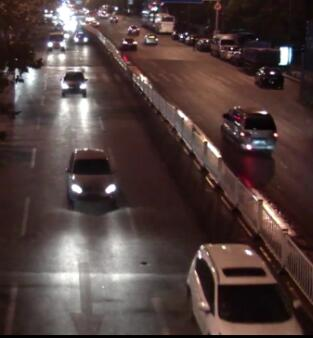bus: (149, 12, 177, 34)
car: (184, 240, 304, 334), (64, 143, 121, 211), (220, 101, 279, 155), (57, 69, 91, 98), (254, 62, 285, 86), (46, 29, 67, 52), (211, 33, 232, 56), (140, 31, 162, 47), (222, 45, 242, 61), (119, 35, 138, 50), (70, 30, 88, 45), (127, 22, 142, 34)
